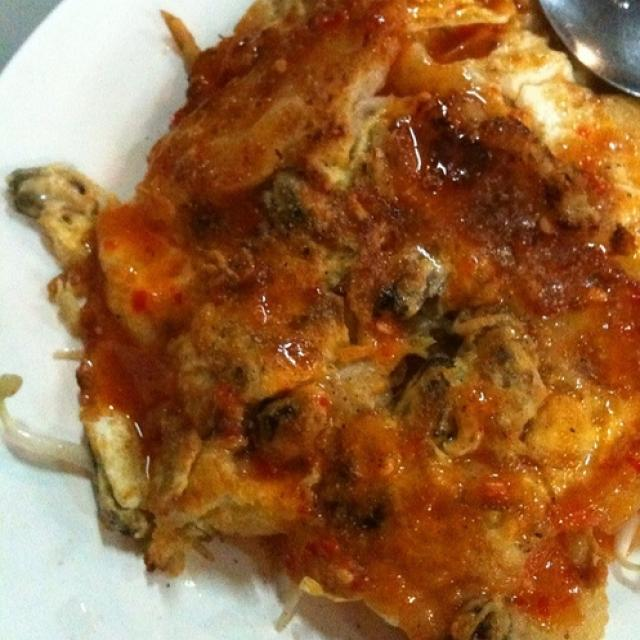炸货点心: (22, 8, 623, 626)
蛋糕甜品: (22, 8, 623, 626)
